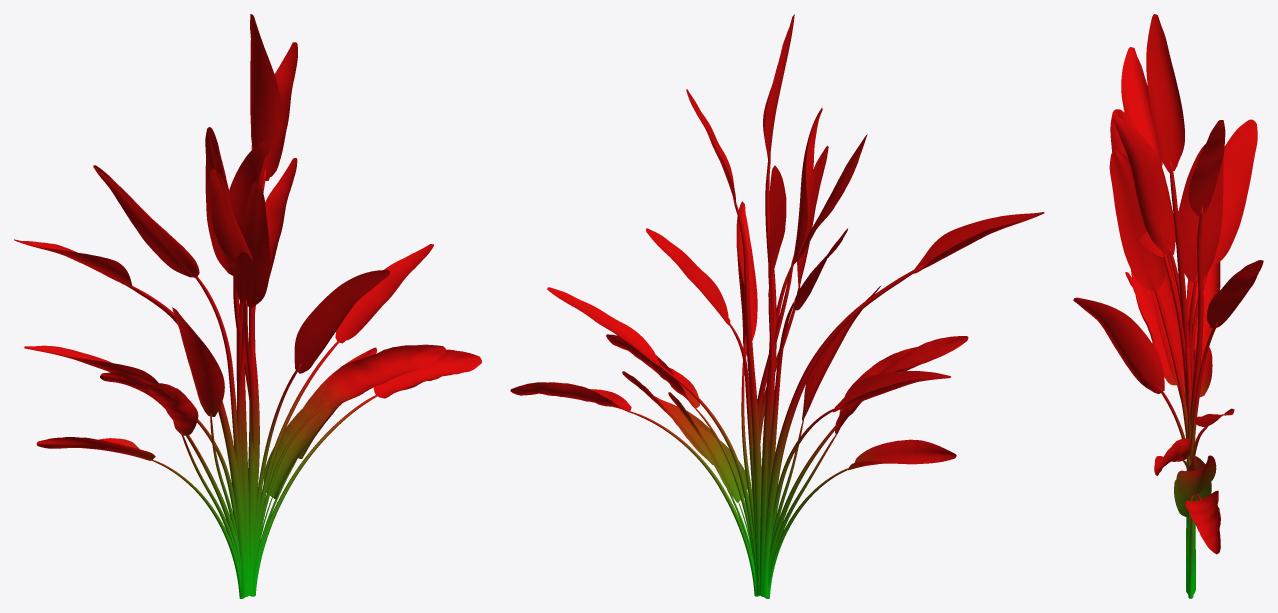
Rendered from Var3_LOD0.fbx.
3 renders of one model, left to right at view 1: azimuth 30°, elevation 25°; view 2: azimuth 150°, elevation 25°; view 3: azimuth 270°, elevation 25°, orthographic. The views are drawn at different scales.
Parts seen in each view (by area): view 1: _2qju_Var3_LOD0; view 2: _2qju_Var3_LOD0; view 3: _2qju_Var3_LOD0.
Part boxes in pixels (<box>): _2qju_Var3_LOD0: <box>14,14,481,598</box>; _2qju_Var3_LOD0: <box>510,14,1044,598</box>; _2qju_Var3_LOD0: <box>1073,14,1263,598</box>.
Bounding box in the file's own units: 134 × 149 × 45.01.
